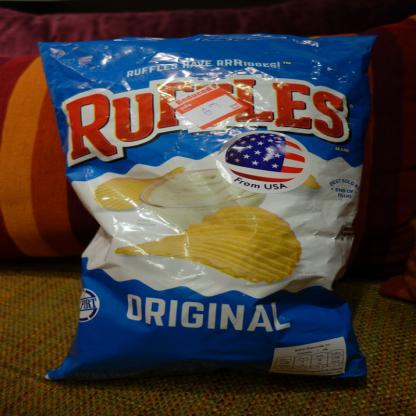potatochip: (40, 32, 380, 386)
